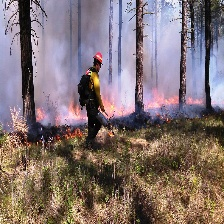fire: (53, 102, 82, 126), (143, 89, 180, 106), (103, 101, 139, 116), (53, 128, 83, 141), (22, 137, 43, 147), (157, 112, 172, 126), (187, 95, 205, 105), (35, 107, 44, 119), (109, 129, 114, 137)
smoke: (2, 2, 224, 100)
